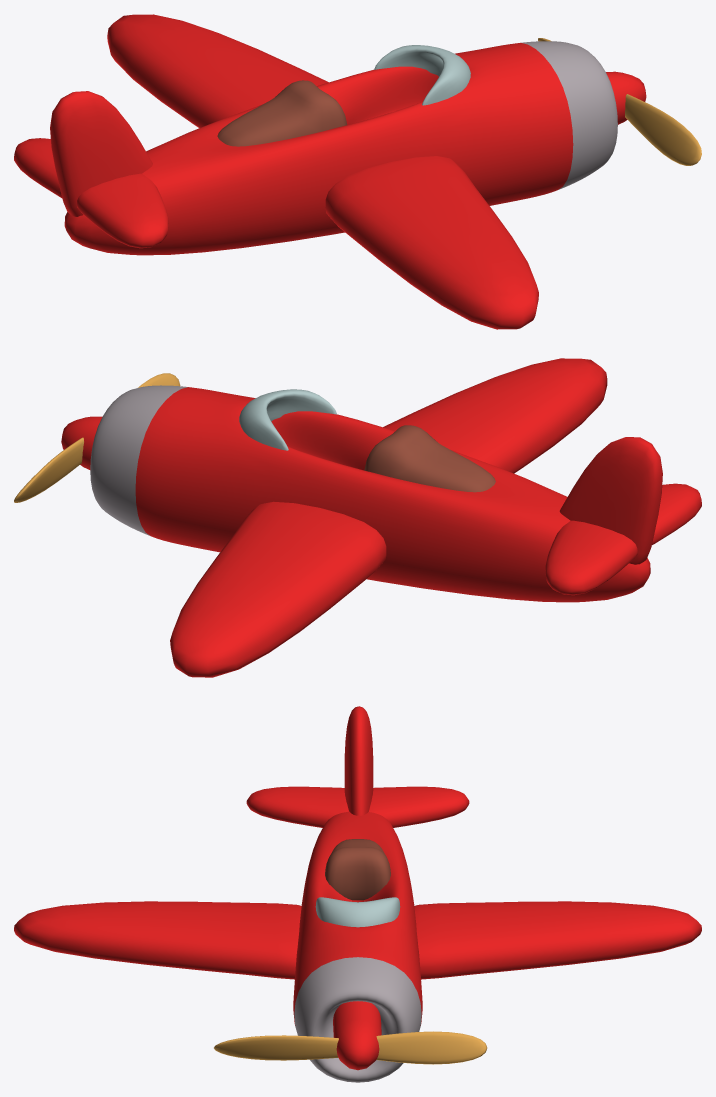
Rendered from toyplane.glb.
3 views of the same model, one above another, from view 1: azimuth 30°, elevation 25°; view 2: azimuth 150°, elevation 25°; view 3: azimuth 270°, elevation 25° (orthographic). The views are drawn at different scales.
Parts seen in each view (by area): view 1: aviao, Cube.004, Cube.005, helice; view 2: aviao, Cube.004, Cube.005, helice; view 3: aviao, helice, Cube.004, Cube.005.
Part boxes in pixels (bbox=[...]): aviao: bbox=[14, 14, 646, 329]; Cube.004: bbox=[217, 80, 347, 146]; Cube.005: bbox=[374, 45, 470, 105]; helice: bbox=[538, 38, 701, 165]; aviao: bbox=[61, 358, 701, 677]; Cube.004: bbox=[364, 425, 495, 492]; Cube.005: bbox=[239, 389, 336, 450]; helice: bbox=[14, 373, 180, 502]; aviao: bbox=[14, 706, 701, 1082]; helice: bbox=[214, 1031, 487, 1064]; Cube.004: bbox=[325, 839, 390, 900]; Cube.005: bbox=[315, 897, 400, 927].
Bounding box in the file's own units: 1.21 × 0.4009 × 1.43.
